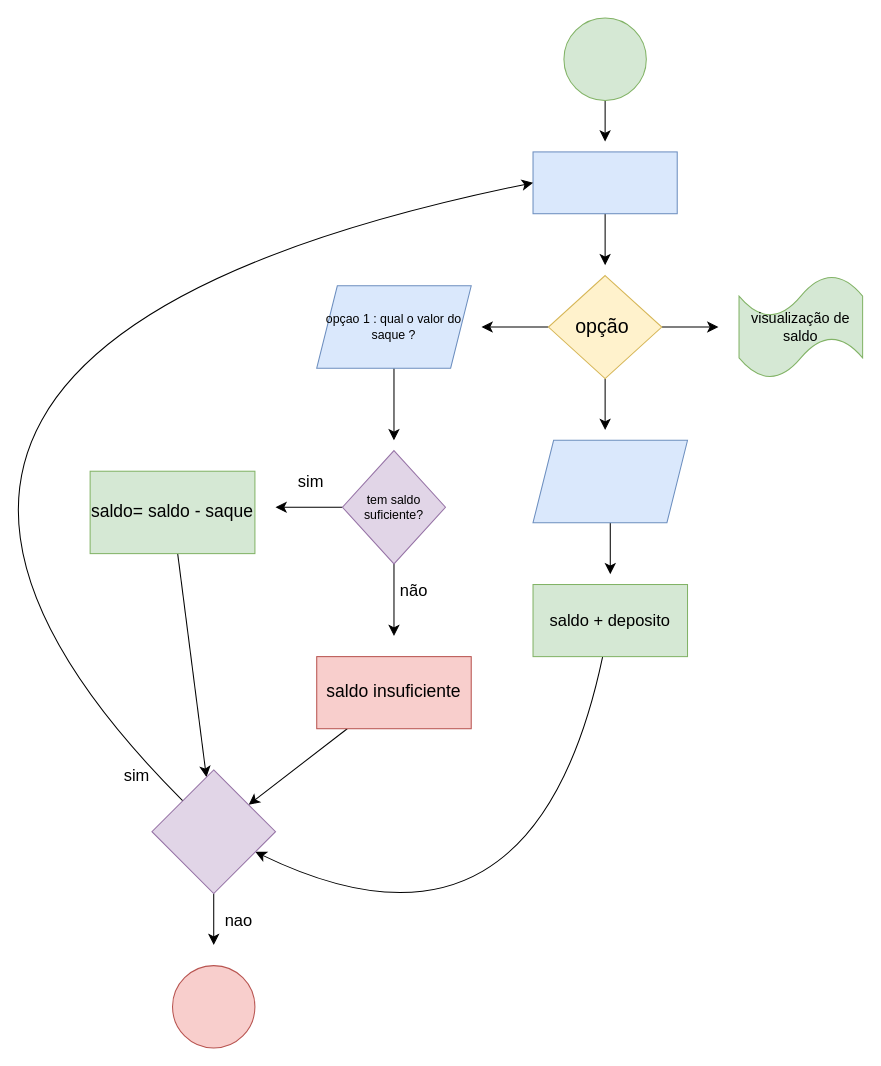
Image size: 881x1066. Some labels were removed from this diagram. The box of each missing label's shape, as (x1, y1, x2, y2) in pixels:
deseja realizar outra operação?: (151, 769, 276, 894)
escolha uma opção: 1-sacar 2-depositar 3-visualizar saldo: (532, 151, 677, 214)
opçao 2: depositar: (532, 439, 688, 523)
